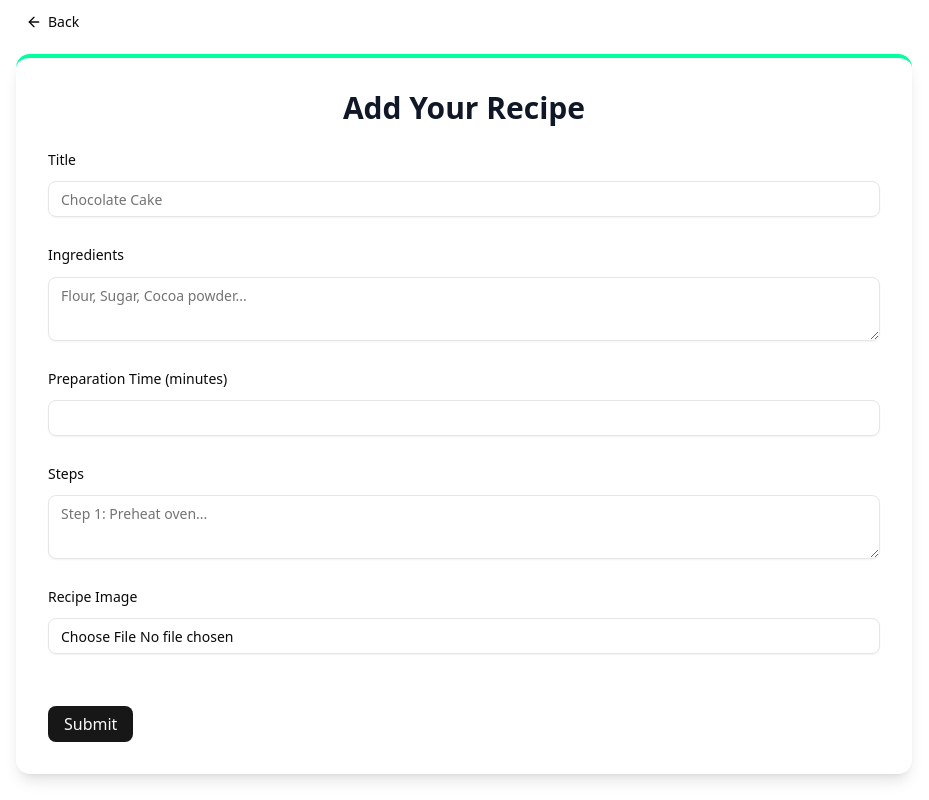
validates required fields
Click the button "Submit" at (91, 724), box top-left (48, 706), bottom-right (133, 742)
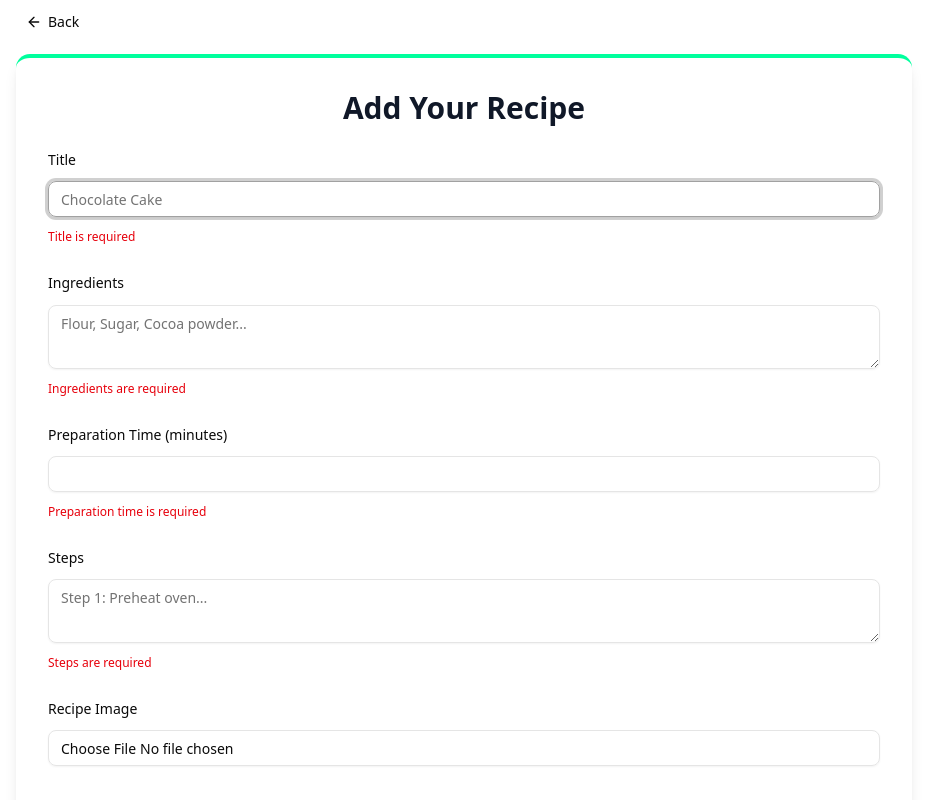
Expected: the text "Title is required" is shown, top-left (48, 228), bottom-right (135, 245)
Expected: the text "Ingredients are required" is shown, top-left (48, 380), bottom-right (186, 396)
Expected: the text "Preparation time is required" is shown, top-left (48, 503), bottom-right (206, 520)
